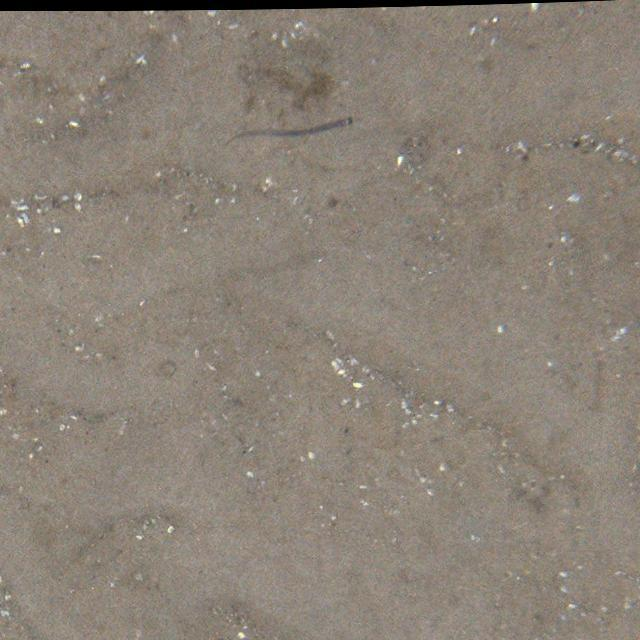roundfish: (228, 118, 356, 143)
